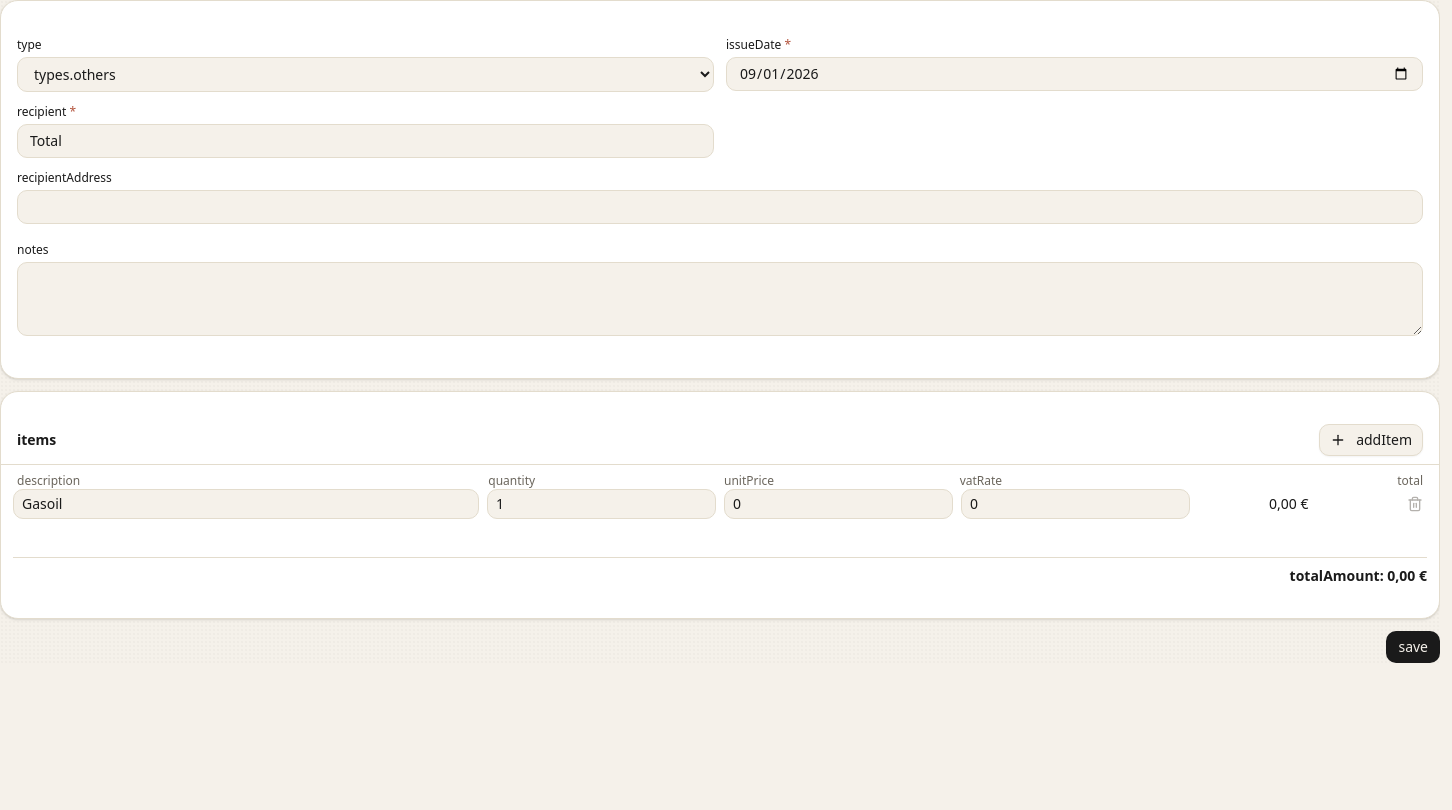
Test: InvoiceForm — decimal line figures › refuses figure 2 = 5,555 with errorVatRateInvalid
Replace the text in the field named "vatRate" with "5,555" at (1076,504), box [961,489,1190,519]
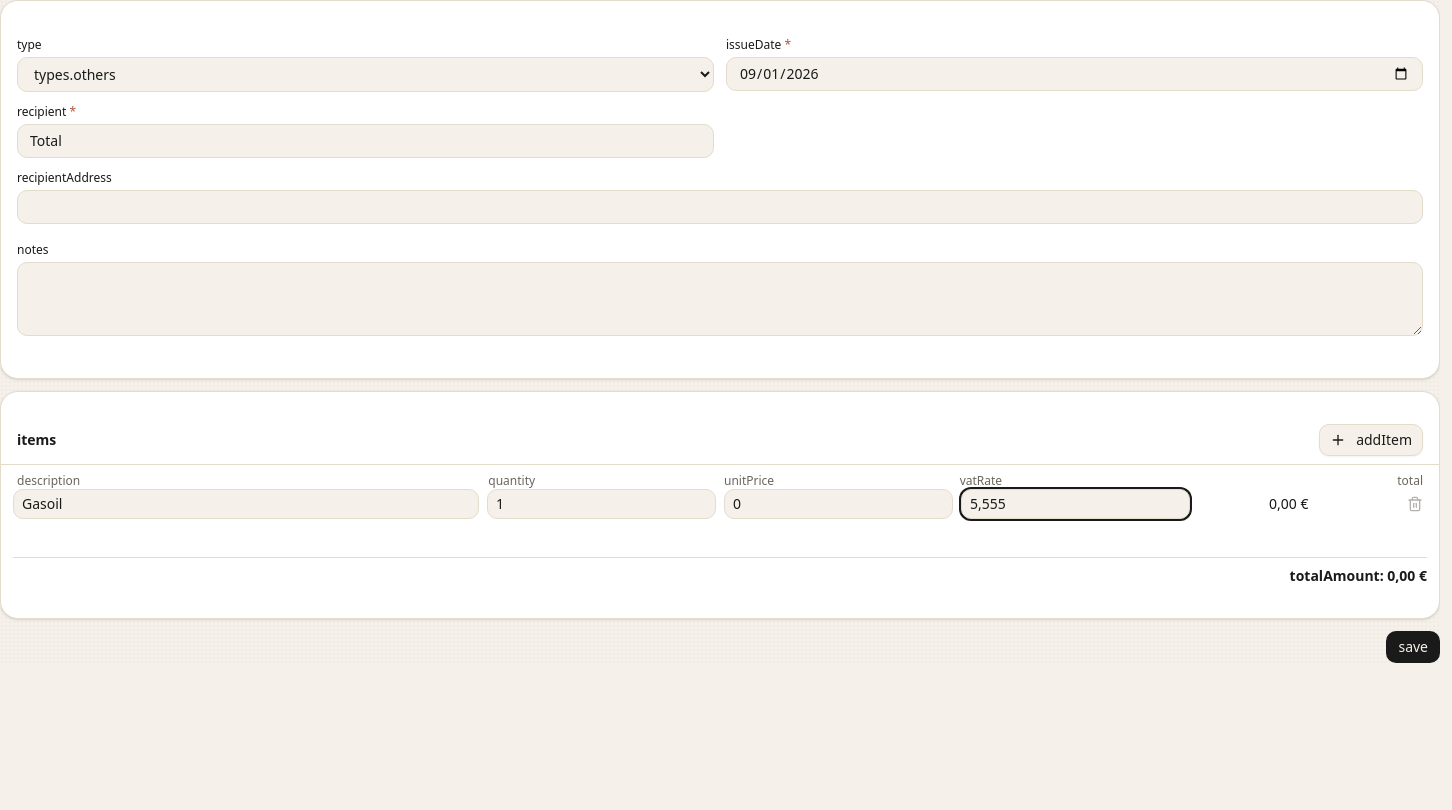
Submit the form
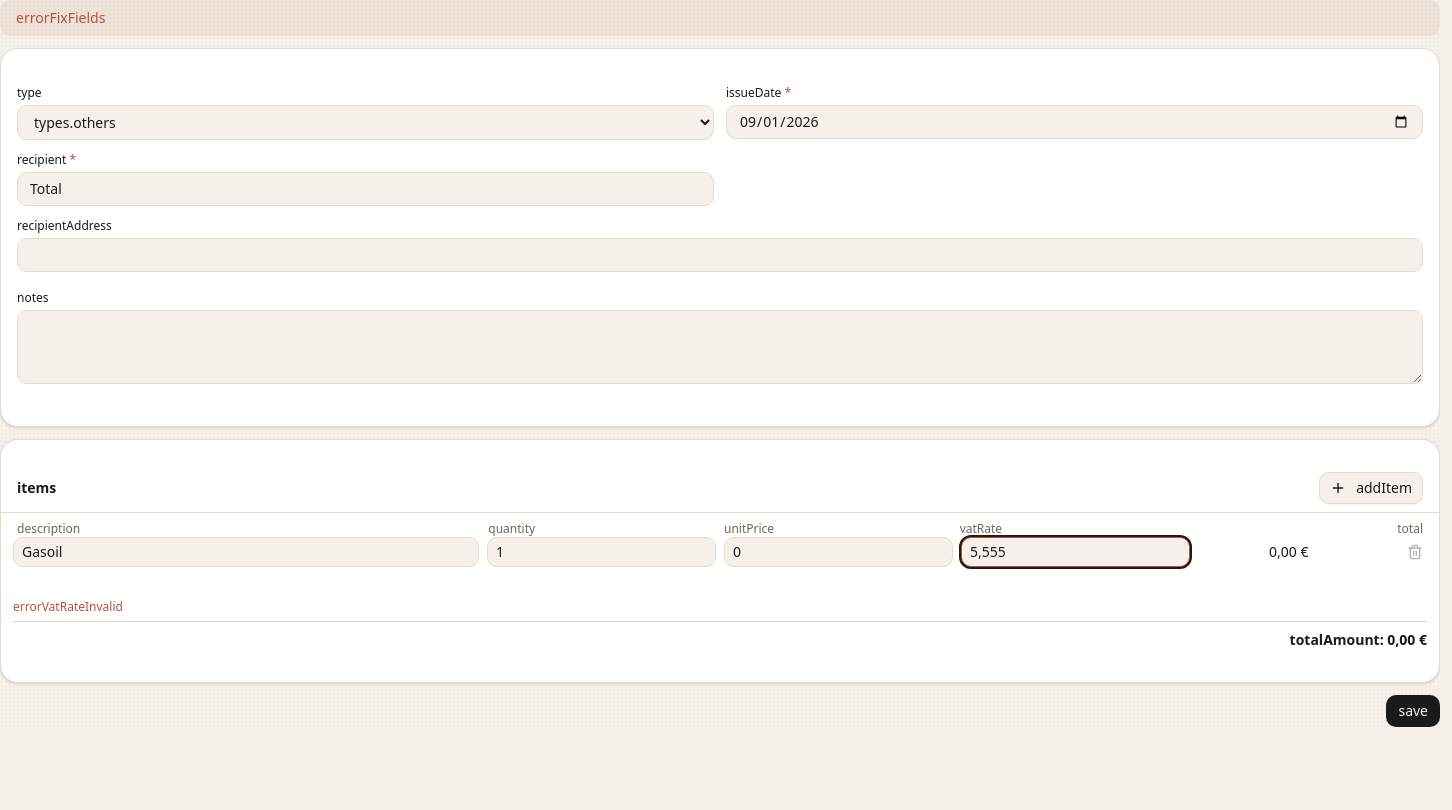
Check: the text "errorVatRateInvalid" is shown, box [13,598,123,615]
